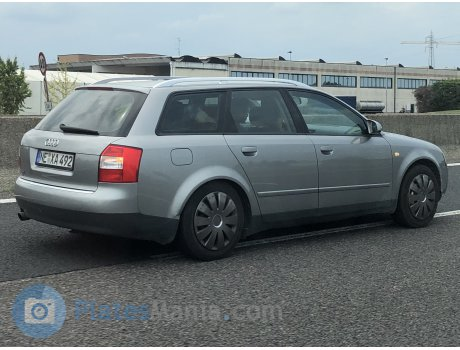License Plates: (38, 150, 74, 164)
